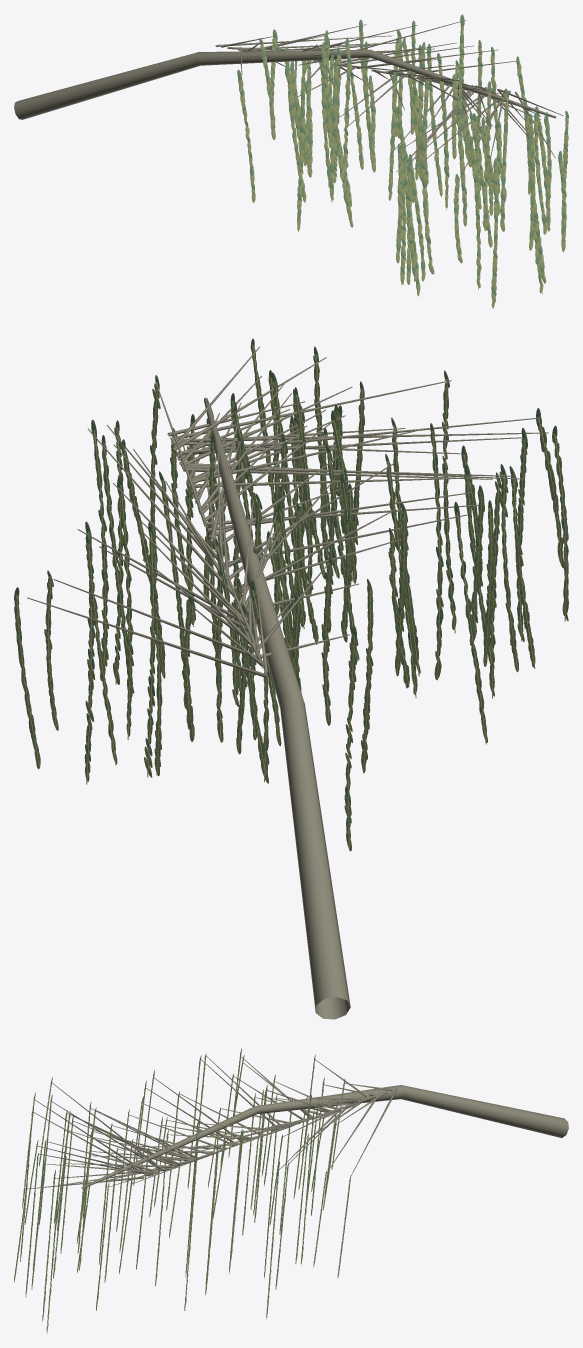
Rendered from study_willow_bough.glb.
3 views of the same model, one above another, from view 1: azimuth 30°, elevation 25°; view 2: azimuth 150°, elevation 25°; view 3: azimuth 270°, elevation 25° (orthographic). The views are drawn at different scales.
Visible parts, largest first — view 1: study_willow_bough_StudyLeafGold, study_willow_bough_StudyBark, study_willow_bough_StudyLeafJade; view 2: study_willow_bough_StudyLeafGold, study_willow_bough_StudyBark, study_willow_bough_StudyLeafJade, study_willow_bough_LakeReed; view 3: study_willow_bough_StudyBark, study_willow_bough_StudyLeafGold, study_willow_bough_LakeReed, study_willow_bough_StudyLeafJade.
Part boxes in pixels (<box>): study_willow_bough_StudyLeafGold: <box>238,25,568,307</box>; study_willow_bough_StudyBark: <box>14,20,563,178</box>; study_willow_bough_StudyLeafJade: <box>237,14,568,296</box>; study_willow_bough_StudyLeafGold: <box>14,347,568,851</box>; study_willow_bough_StudyBark: <box>27,346,548,1019</box>; study_willow_bough_StudyLeafJade: <box>14,338,568,831</box>; study_willow_bough_LakeReed: <box>16,345,566,850</box>; study_willow_bough_StudyBark: <box>27,1055,568,1189</box>; study_willow_bough_StudyLeafGold: <box>14,1052,350,1331</box>; study_willow_bough_LakeReed: <box>14,1053,350,1333</box>; study_willow_bough_StudyLeafJade: <box>15,1048,350,1318</box>.
Bounding box in the file's own units: 6.2 × 4.01 × 9.25.
